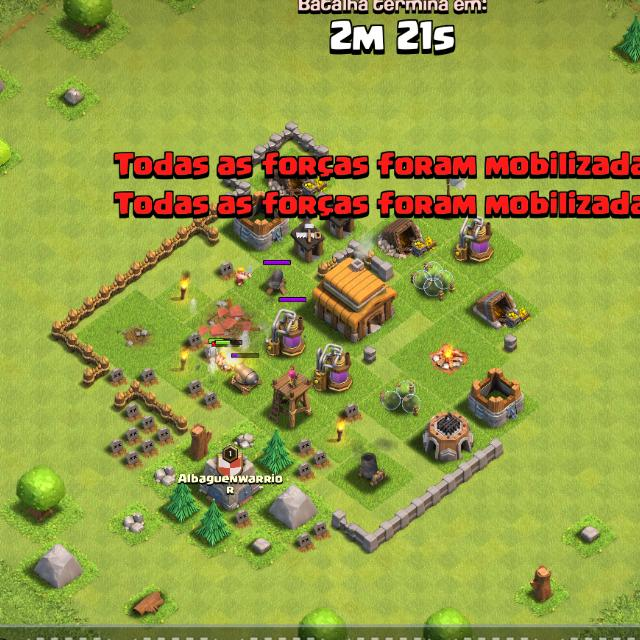Arqueira: (272, 367, 313, 427)
Canhao: (230, 360, 262, 395)
